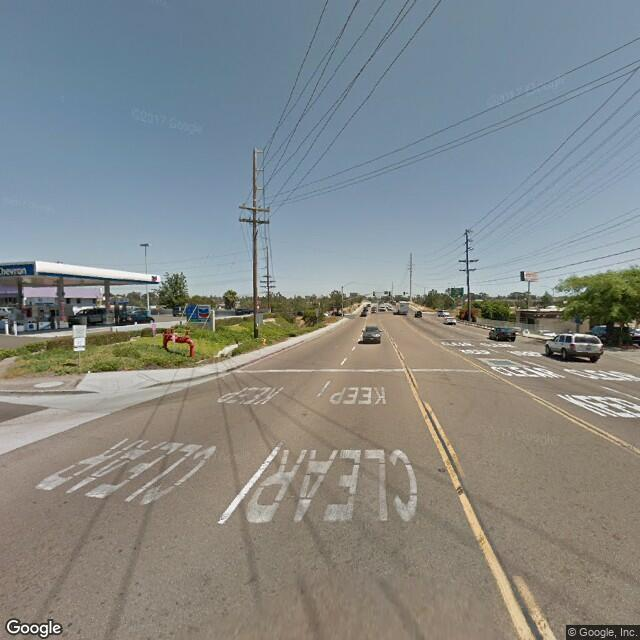litter: (86, 367, 91, 375)
